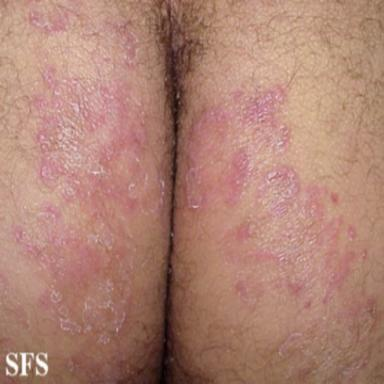Tinea-Corporis: (4, 5, 168, 384), (186, 85, 377, 381), (0, 271, 33, 353)
